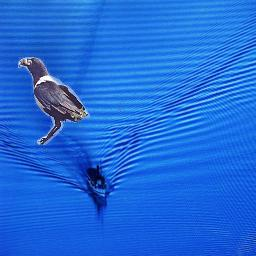Crow: (18, 57, 90, 145)
